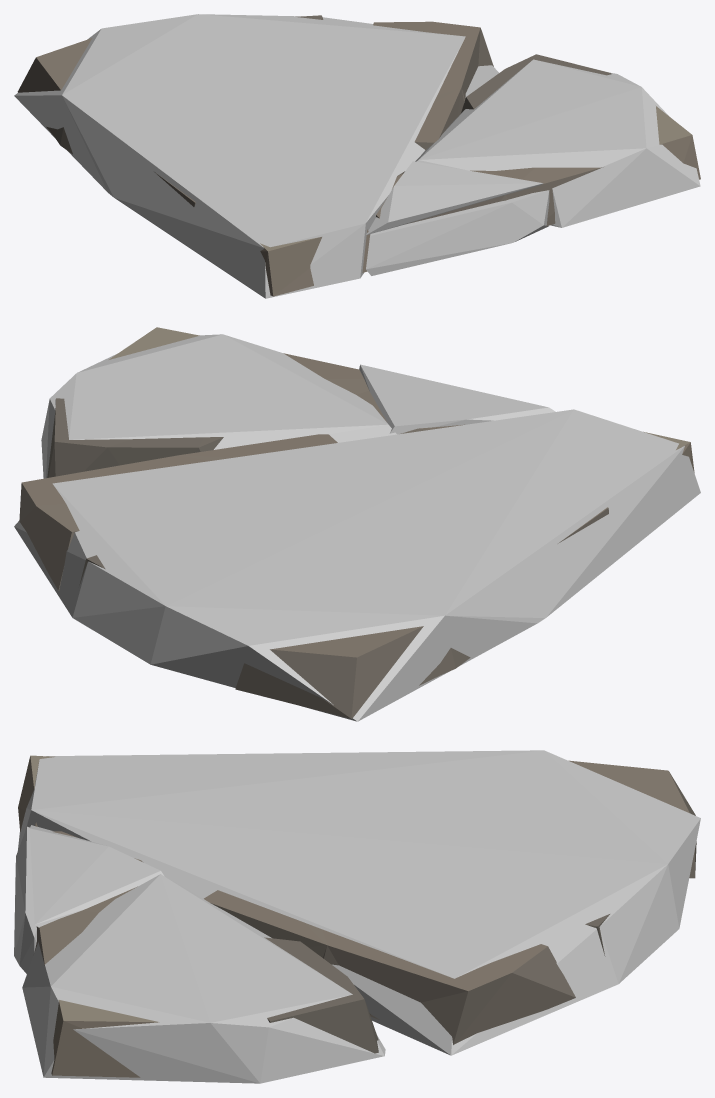
Rendered from SM_Env_Footpath_Corner_Small_01.fbx.
The picture shows the model from 3 angles, top to bottom: view 1: azimuth 30°, elevation 25°; view 2: azimuth 150°, elevation 25°; view 3: azimuth 270°, elevation 25°; orthographic projection. The views are drawn at different scales.
Parts seen in each view (by area): view 1: SM_Env_Footpath_Corner_Small_01_ConvexHulls, SM_Env_Footpath_Corner_Small_01; view 2: SM_Env_Footpath_Corner_Small_01_ConvexHulls, SM_Env_Footpath_Corner_Small_01; view 3: SM_Env_Footpath_Corner_Small_01_ConvexHulls, SM_Env_Footpath_Corner_Small_01.
Part boxes in pixels (x1,y1,x2,y2): SM_Env_Footpath_Corner_Small_01_ConvexHulls: [14, 14, 700, 298]; SM_Env_Footpath_Corner_Small_01: [17, 15, 700, 296]; SM_Env_Footpath_Corner_Small_01_ConvexHulls: [14, 334, 700, 721]; SM_Env_Footpath_Corner_Small_01: [19, 327, 694, 718]; SM_Env_Footpath_Corner_Small_01_ConvexHulls: [14, 750, 700, 1083]; SM_Env_Footpath_Corner_Small_01: [18, 755, 696, 1077].
Bounding box in the file's own units: 260 × 264 × 26.45.
2 materials, 1 textured.
